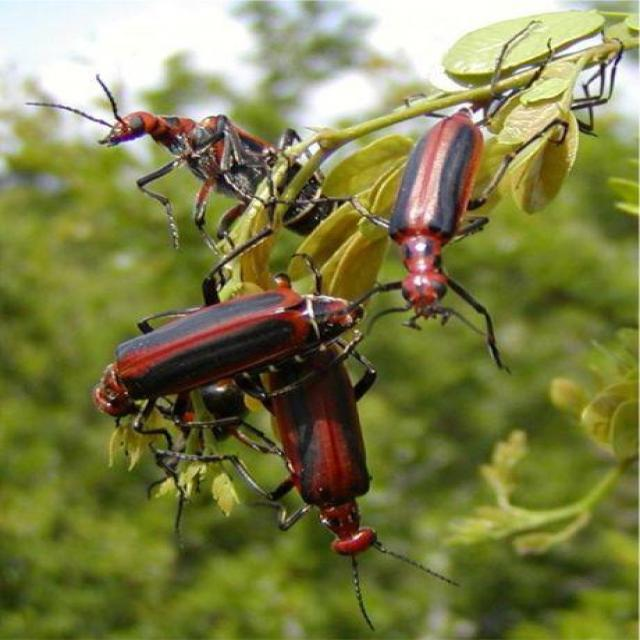BlisterBeetle-Adult-: (70, 264, 367, 428), (359, 98, 524, 356), (77, 80, 343, 238), (248, 347, 406, 570)
